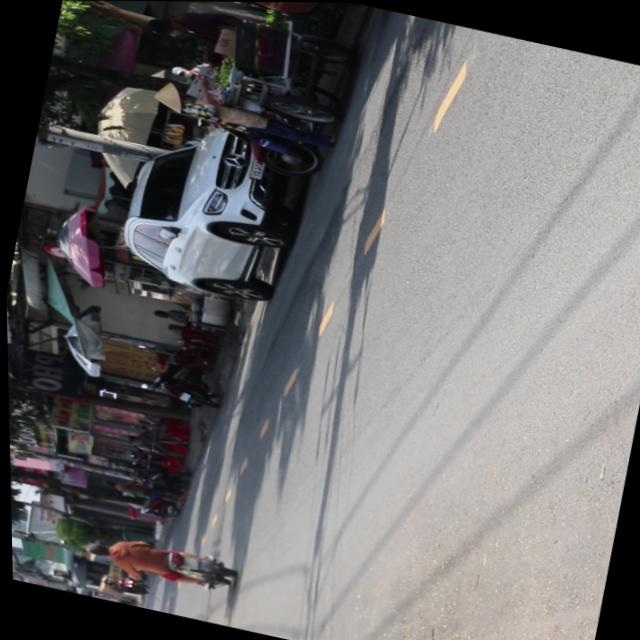licenseplate: (76, 525, 235, 596)
motorcyclist: (79, 538, 108, 557)
nohelmet: (178, 554, 196, 570)
